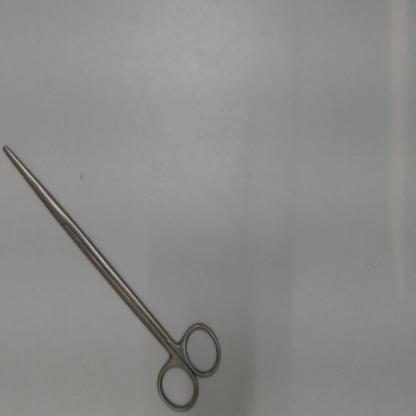9 Metzenbaum Scissors: (1, 135, 229, 414)
